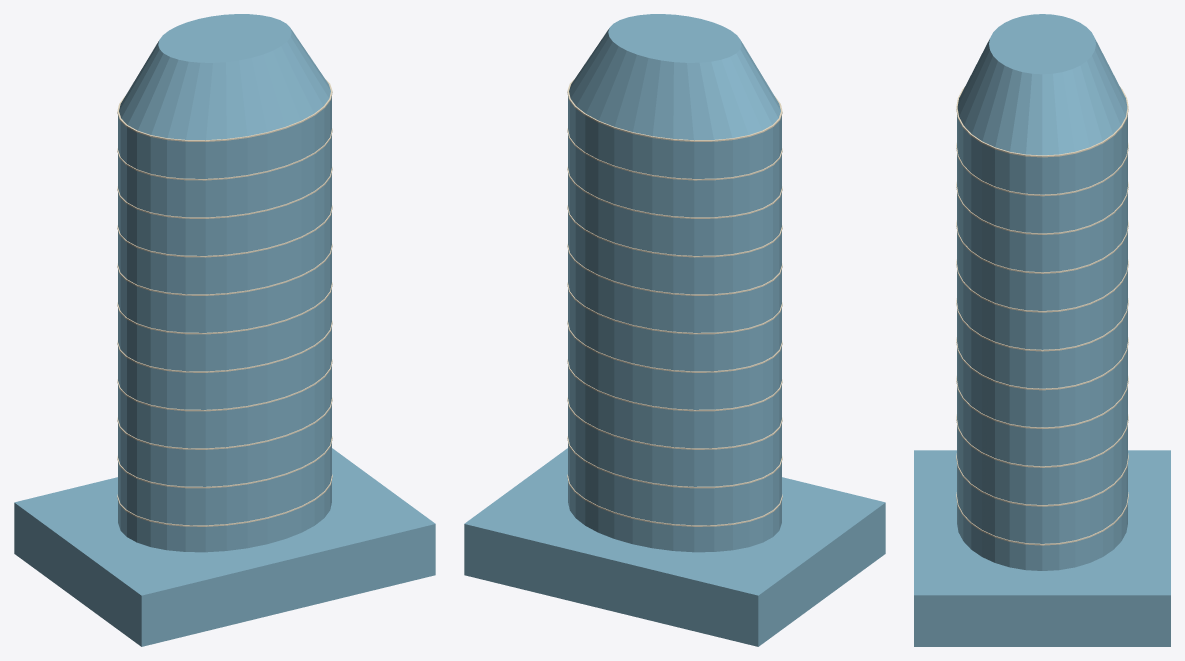
The model's file is modern-5-lod0.glb.
3 renders of one model, left to right at view 1: azimuth 30°, elevation 25°; view 2: azimuth 150°, elevation 25°; view 3: azimuth 270°, elevation 25°, orthographic.
Parts seen in each view (by area): view 1: modern-5_architecture; view 2: modern-5_architecture; view 3: modern-5_architecture.
Boxes of the visible parts, bbox=[...] form: modern-5_architecture: bbox=[14, 14, 435, 646]; modern-5_architecture: bbox=[464, 14, 885, 646]; modern-5_architecture: bbox=[914, 14, 1170, 646].
Bounding box in the file's own units: 24 × 41 × 18.
